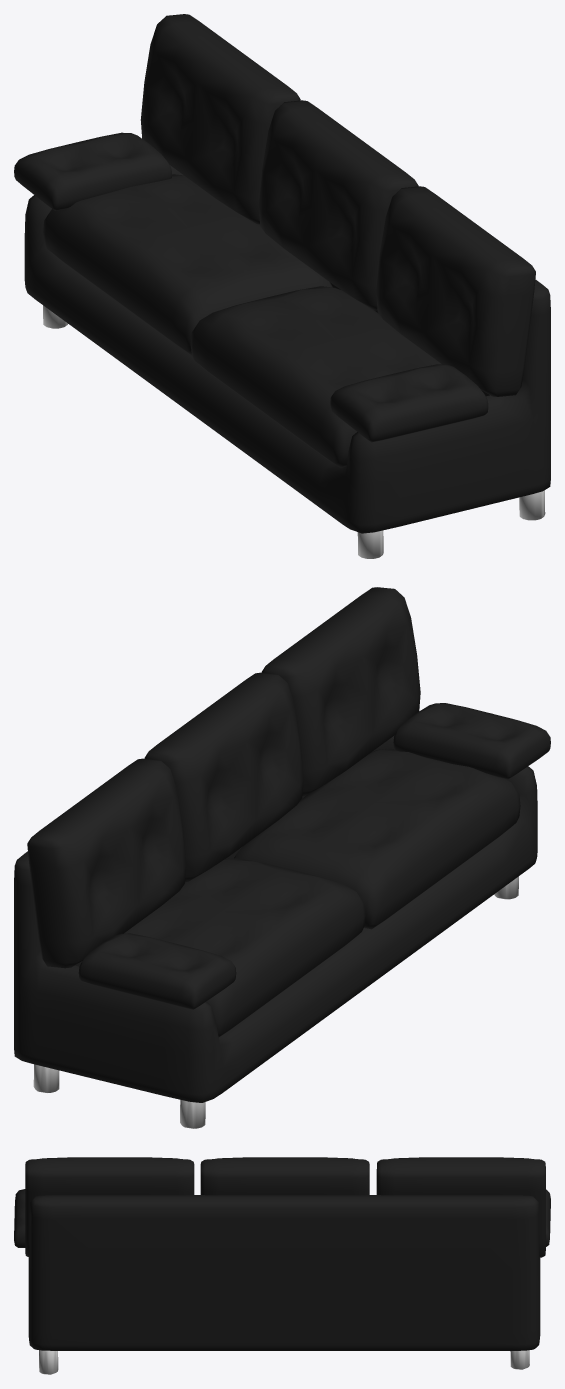
The model's file is LV_Sofa.fbx.
The picture shows the model from 3 angles, top to bottom: view 1: azimuth 30°, elevation 25°; view 2: azimuth 150°, elevation 25°; view 3: azimuth 270°, elevation 25°; orthographic projection. The views are drawn at different scales.
Visible parts, largest first — view 1: Sofa; view 2: Sofa; view 3: Sofa.
Part boxes in pixels (bbox=[...]): Sofa: bbox=[14, 14, 550, 558]; Sofa: bbox=[14, 587, 550, 1128]; Sofa: bbox=[14, 1157, 550, 1374].
Size of the model in its own units: 69.84 by 88.57 by 217.
2 materials, 1 textured.
